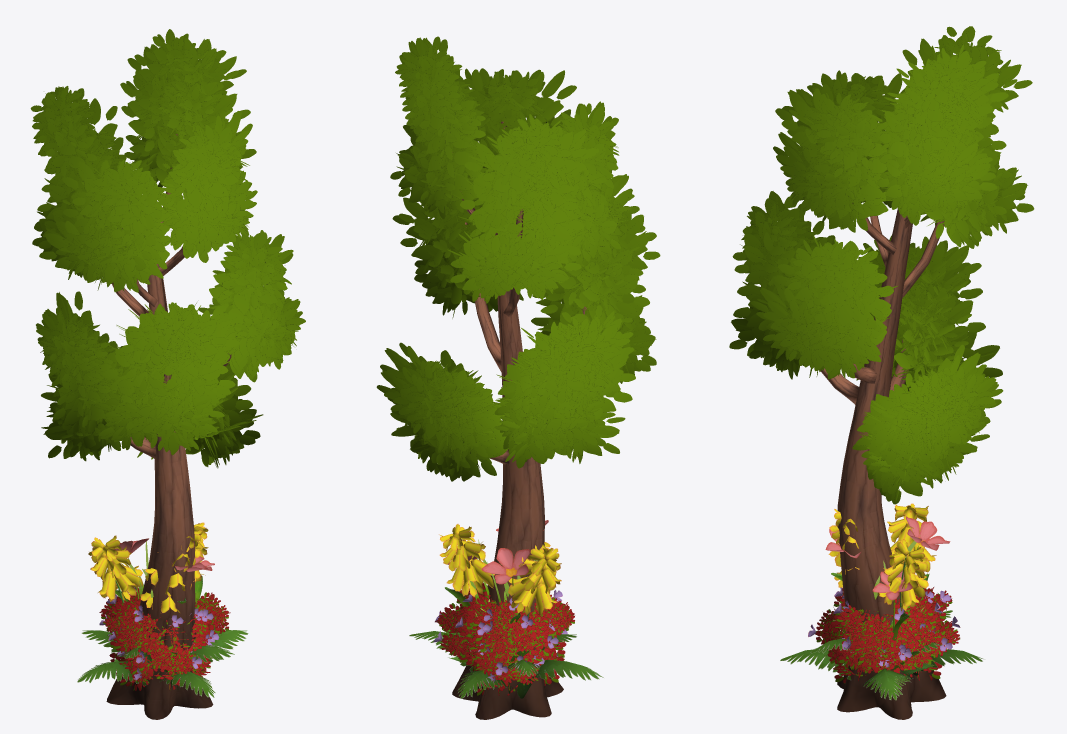
File: nature.glb
3 renders of one model, left to right at view 1: azimuth 30°, elevation 25°; view 2: azimuth 150°, elevation 25°; view 3: azimuth 270°, elevation 25°, orthographic. The views are drawn at different scales.
Parts seen in each view (by area): view 1: CommonTree_3, Bush_Common, Flower_4_Group, Bush_Common_Flowers, Fern_1, Flower_3_Group; view 2: CommonTree_3, Bush_Common, Flower_4_Group, Bush_Common_Flowers, Fern_1, Flower_3_Group; view 3: CommonTree_3, Bush_Common, Flower_4_Group, Bush_Common_Flowers, Fern_1, Flower_3_Group.
Boxes of the visible parts, left/top/right/bottom form: CommonTree_3: left=30, top=29, right=305, bottom=719; Bush_Common: left=99, top=586, right=230, bottom=691; Flower_4_Group: left=88, top=522, right=208, bottom=689; Bush_Common_Flowers: left=99, top=587, right=228, bottom=690; Fern_1: left=77, top=628, right=248, bottom=697; Flower_3_Group: left=114, top=538, right=214, bottom=658; CommonTree_3: left=376, top=36, right=660, bottom=719; Bush_Common: left=435, top=583, right=574, bottom=695; Flower_4_Group: left=439, top=524, right=564, bottom=698; Bush_Common_Flowers: left=433, top=585, right=574, bottom=695; Fern_1: left=409, top=631, right=603, bottom=698; Flower_3_Group: left=442, top=520, right=548, bottom=663; CommonTree_3: left=729, top=26, right=1034, bottom=719; Bush_Common: left=815, top=586, right=959, bottom=683; Flower_4_Group: left=828, top=503, right=936, bottom=677; Bush_Common_Flowers: left=808, top=587, right=960, bottom=683; Fern_1: left=780, top=610, right=984, bottom=700; Flower_3_Group: left=825, top=516, right=950, bottom=671.
Size of the model in its own units: 4.06 by 9.43 by 4.24.
13 materials, 13 textured.
